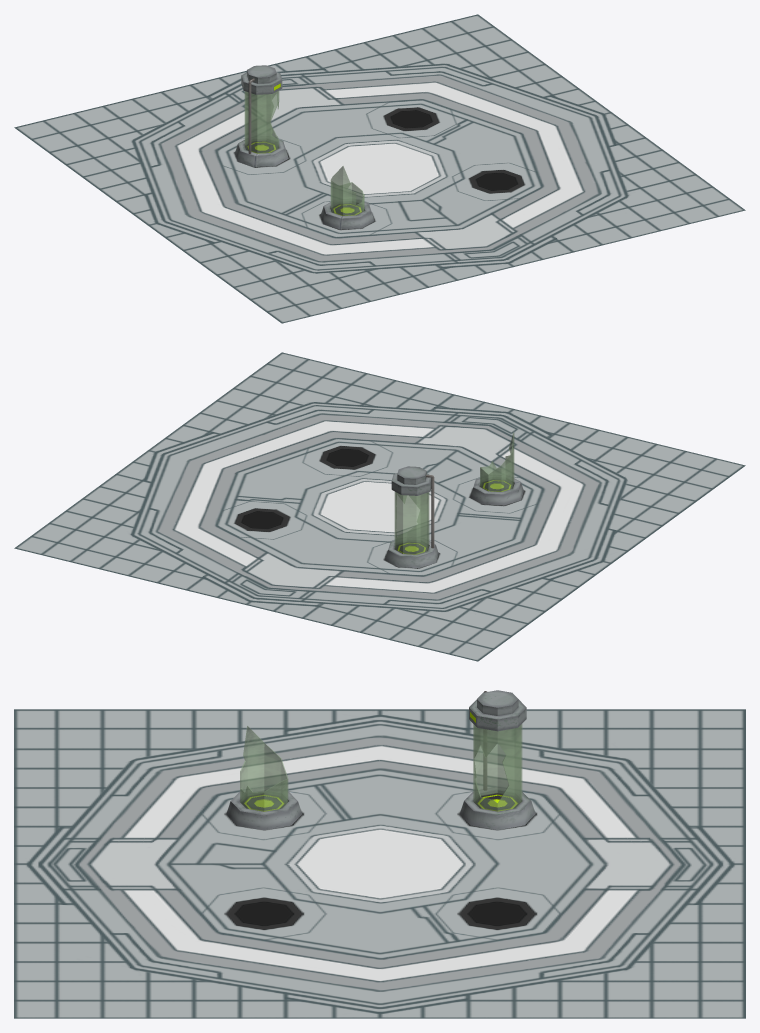
File: Planttile_M2.fbx
The picture shows the model from 3 angles, top to bottom: view 1: azimuth 30°, elevation 25°; view 2: azimuth 150°, elevation 25°; view 3: azimuth 270°, elevation 25°; orthographic projection. The views are drawn at different scales.
Parts seen in each view (by area): view 1: Plant_Floor, Plant_Obj1, Plant_Obj2; view 2: Plant_Floor, Plant_Obj1, Plant_Obj2; view 3: Plant_Floor, Plant_Obj1, Plant_Obj2.
Part boxes in pixels (x1,y1,x2,y2): Plant_Floor: (14,14,745,323); Plant_Obj1: (235,65,288,166); Plant_Obj2: (320,166,374,229); Plant_Floor: (14,352,745,661); Plant_Obj1: (385,466,438,568); Plant_Obj2: (470,433,523,505); Plant_Floor: (14,709,745,1018); Plant_Obj1: (460,690,535,829); Plant_Obj2: (226,726,301,830).
Bounding box in the file's own units: 750 × 130 × 750.
3 materials, 3 textured.
